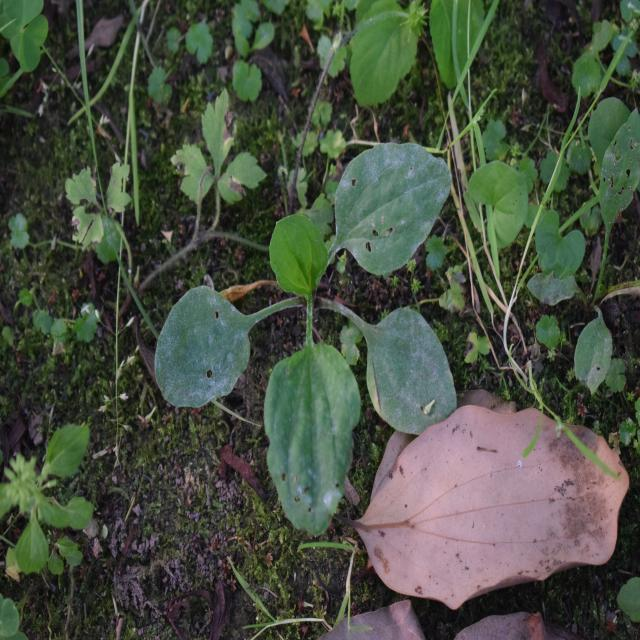plantain: (172, 134, 480, 518)
